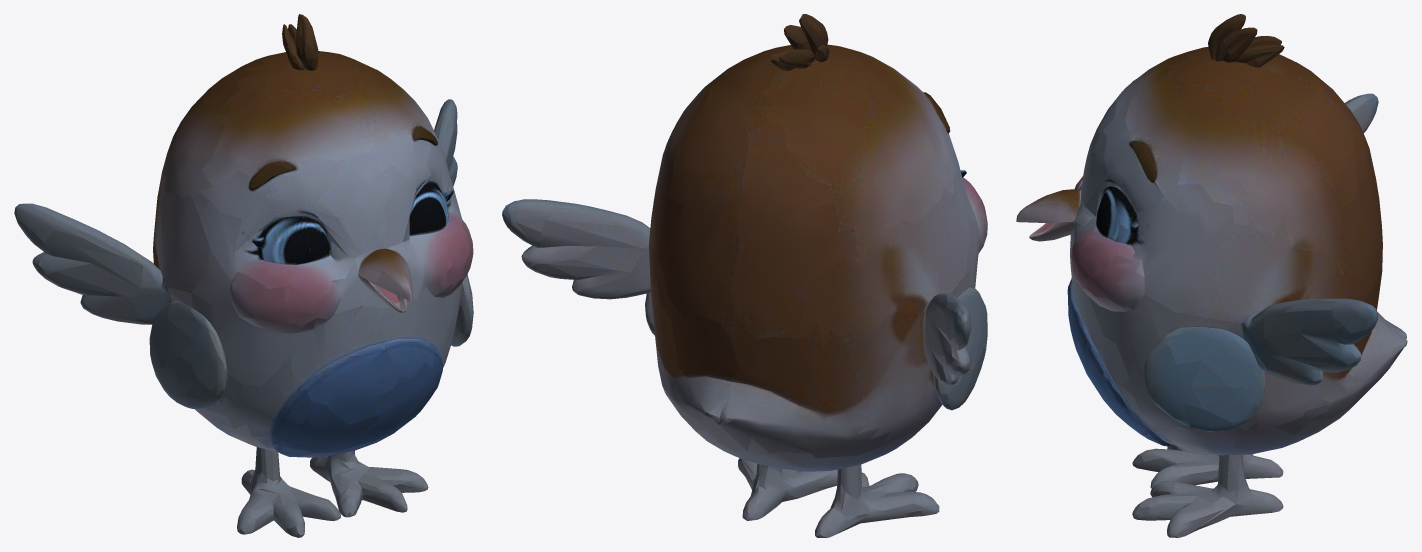
Rendered from bird.455fd6b5.glb.
3 views of the same model, side by side, from view 1: azimuth 30°, elevation 25°; view 2: azimuth 150°, elevation 25°; view 3: azimuth 270°, elevation 25° (orthographic). The views are drawn at different scales.
Parts seen in each view (by area): view 1: output_unwrapped; view 2: output_unwrapped; view 3: output_unwrapped.
Part boxes in pixels (x1,y1,x2,y2): output_unwrapped: (14,14,473,537); output_unwrapped: (502,14,987,537); output_unwrapped: (1016,14,1407,537).
Bounding box in the file's own units: 1.85 × 1.9 × 1.41.
1 material, 1 textured.
